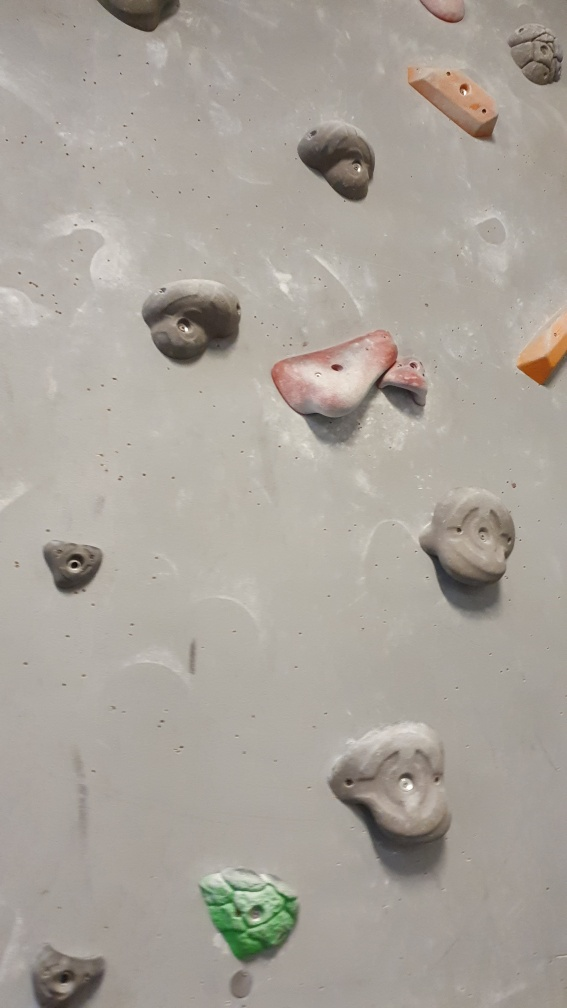Crimp: (38, 534, 108, 595)
Hand Start: (221, 962, 261, 1004)
Jug: (324, 717, 454, 845), (414, 480, 520, 590), (137, 273, 246, 366), (295, 115, 385, 209)
Pinch: (405, 62, 503, 143), (514, 302, 567, 391)
